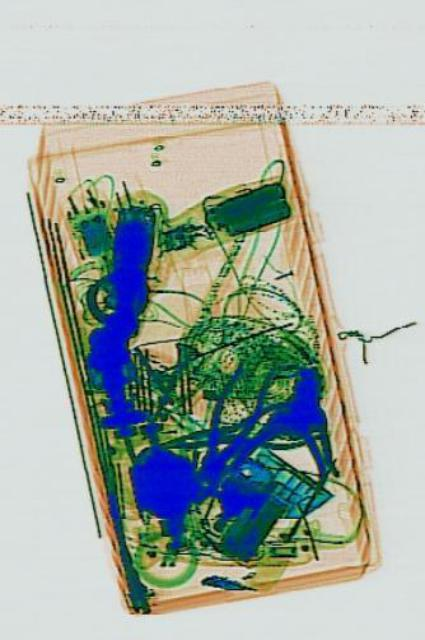Pliers: (187, 337, 278, 498), (155, 392, 322, 468)
